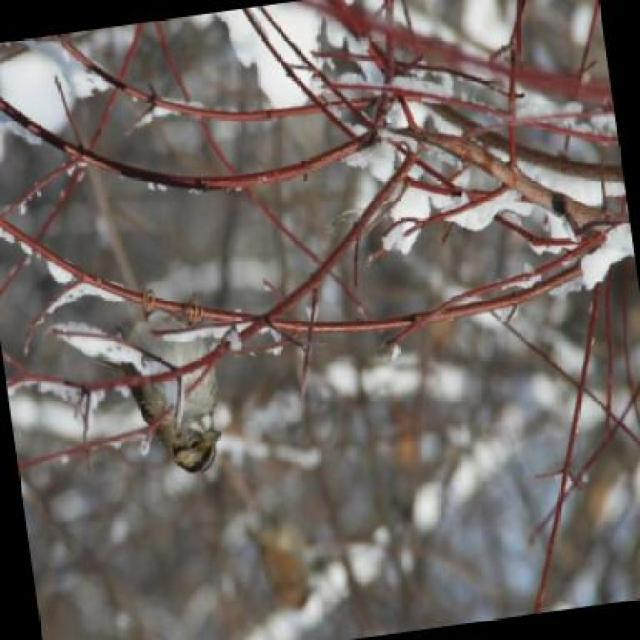Bird: (112, 281, 238, 519)
